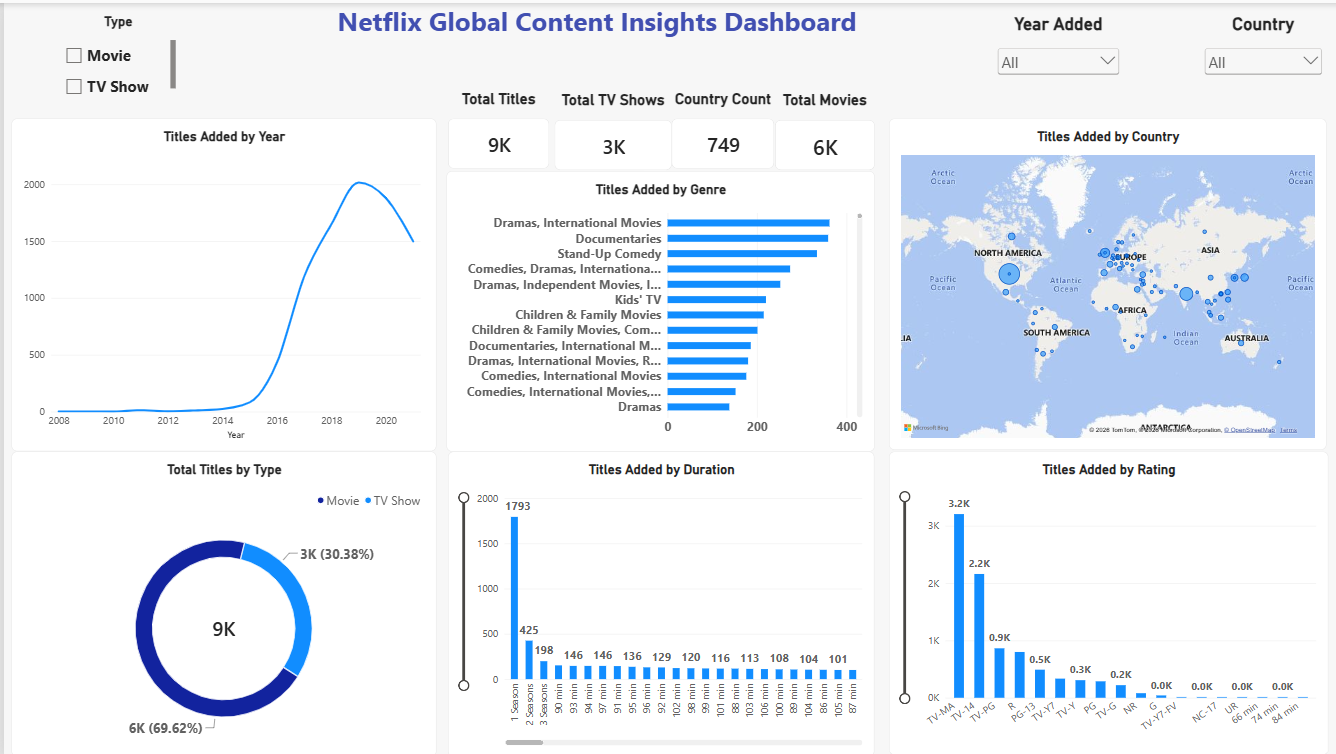

Layout of this report page (visuals, bound fields, positions):
{"tool":"powerbi","page":{"name":"Page 1","canvas":[1920,1080],"ordinal":0},"visuals":[{"type":"cardVisual","title":"Total Titles","fields":{"Data":["netflix_titles.Total titles"]},"box":[636,124.9,145.4,113.6],"z":0},{"type":"cardVisual","title":"Total Movies","fields":{"Data":["netflix_titles.Total Movies"]},"box":[1103.9,127.2,143.1,113.6],"z":1000},{"type":"cardVisual","title":"Total TV Shows","fields":{"Data":["netflix_titles.Total TV Shows"]},"box":[788.1,127.2,168.1,113.6],"z":2000},{"type":"cardVisual","title":"Country Count","fields":{"Data":["netflix_titles.Country count"]},"box":[956.2,124.9,147.6,113.6],"z":3000},{"type":"donutChart","title":"Total Titles by Type","fields":{"Category":["netflix_titles.type"],"Y":["netflix_titles.Total titles"]},"box":[11.4,642.8,608.7,438.4],"z":4000},{"type":"lineChart","title":"Titles Added by Year","fields":{"Y":["netflix_titles.Titles added"],"Category":["netflix_titles.date_added.Variation.Date Hierarchy.Year"]},"box":[11.4,165.8,608.7,477],"z":5000},{"type":"clusteredColumnChart","title":"Titles Added by Rating","fields":{"Category":["netflix_titles.rating"],"Y":["netflix_titles.Titles added"]},"box":[1267.4,642.8,629.2,436.1],"z":6000},{"type":"clusteredBarChart","title":"Titles Added by Genre","fields":{"Category":["netflix_titles.listed_in"],"Y":["CountNonNull(netflix_titles.duration)"]},"box":[633.7,240.8,613.3,402],"z":7000},{"type":"clusteredColumnChart","title":"Titles Added by Duration","fields":{"Category":["netflix_titles.duration"],"Y":["netflix_titles.Titles added"]},"box":[636,642.8,611,438.4],"z":8000},{"type":"slicer","title":"Type","fields":{"Values":["netflix_titles.type"]},"box":[81.8,15.9,164.4,119.1],"z":9000},{"type":"slicer","title":"Country","fields":{"Values":["netflix_titles.country"]},"box":[1714.8,15.9,178.6,127.6],"z":10000},{"type":"slicer","title":"Year Added","fields":{"Values":["netflix_titles.date_added.Variation.Date Hierarchy.Year"]},"box":[1417.3,15.9,184.3,150.2],"z":11000},{"type":"textbox","box":[315.7,0,1067.5,75],"z":12000},{"type":"map","fields":{"Category":["netflix_titles.country"],"Size":["netflix_titles.Titles added"]},"box":[1267.4,165.8,626.9,474.7],"z":12001}]}

Visuals, with their boxes in screenshot pixels (x1, y1, x2, y2), scaled from the page's 1920x1080 canvas onto the 1336x754 screenshot:
"Total Titles" cardVisual: x1=443, y1=87, x2=544, y2=167
"Total Movies" cardVisual: x1=768, y1=89, x2=868, y2=168
"Total TV Shows" cardVisual: x1=548, y1=89, x2=665, y2=168
"Country Count" cardVisual: x1=665, y1=87, x2=768, y2=167
"Total Titles by Type" donutChart: x1=8, y1=449, x2=431, y2=753
"Titles Added by Year" lineChart: x1=8, y1=116, x2=431, y2=449
"Titles Added by Rating" clusteredColumnChart: x1=882, y1=449, x2=1320, y2=753
"Titles Added by Genre" clusteredBarChart: x1=441, y1=168, x2=868, y2=449
"Titles Added by Duration" clusteredColumnChart: x1=443, y1=449, x2=868, y2=753
"Type" slicer: x1=57, y1=11, x2=171, y2=94
"Country" slicer: x1=1193, y1=11, x2=1317, y2=100
"Year Added" slicer: x1=986, y1=11, x2=1114, y2=116
textbox: x1=220, y1=0, x2=962, y2=52
map - netflix_titles.country x netflix_titles.Titles added: x1=882, y1=116, x2=1318, y2=447
